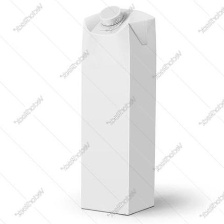carton: (73, 3, 162, 217)
